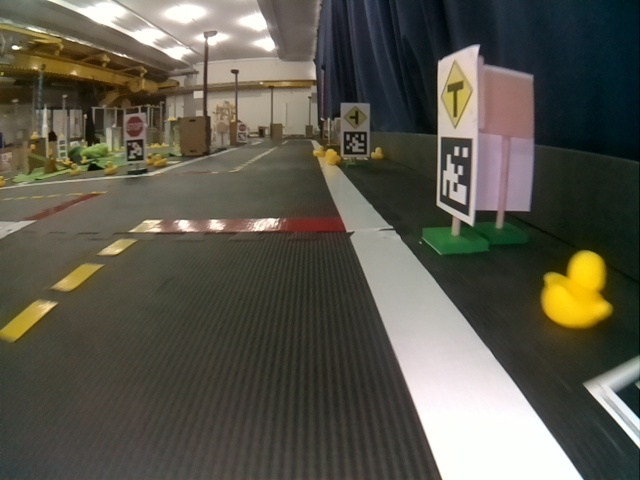Duckie: (540, 250, 612, 328), (326, 150, 340, 164), (104, 161, 118, 174), (154, 153, 167, 166), (372, 147, 383, 159), (70, 164, 80, 175), (145, 154, 155, 163), (313, 148, 323, 156)
Intersection sign: (440, 59, 478, 131), (342, 106, 369, 129)
QR code: (439, 135, 474, 218), (342, 131, 368, 155), (126, 139, 143, 162)
Stop sign: (125, 115, 144, 137)
